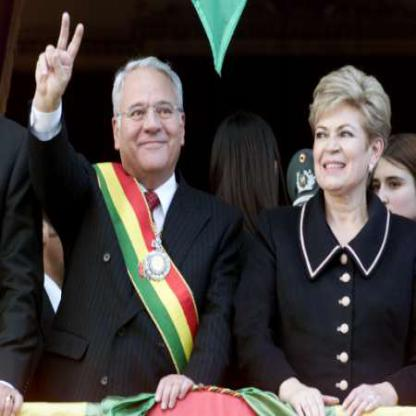face: (309, 71, 375, 196), (115, 62, 186, 174)
